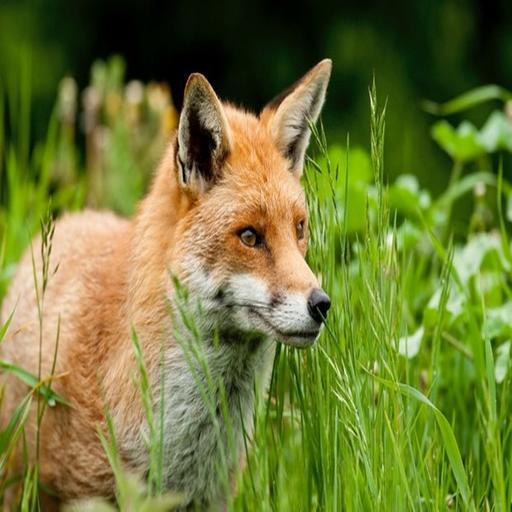Fox: (0, 53, 333, 510)
